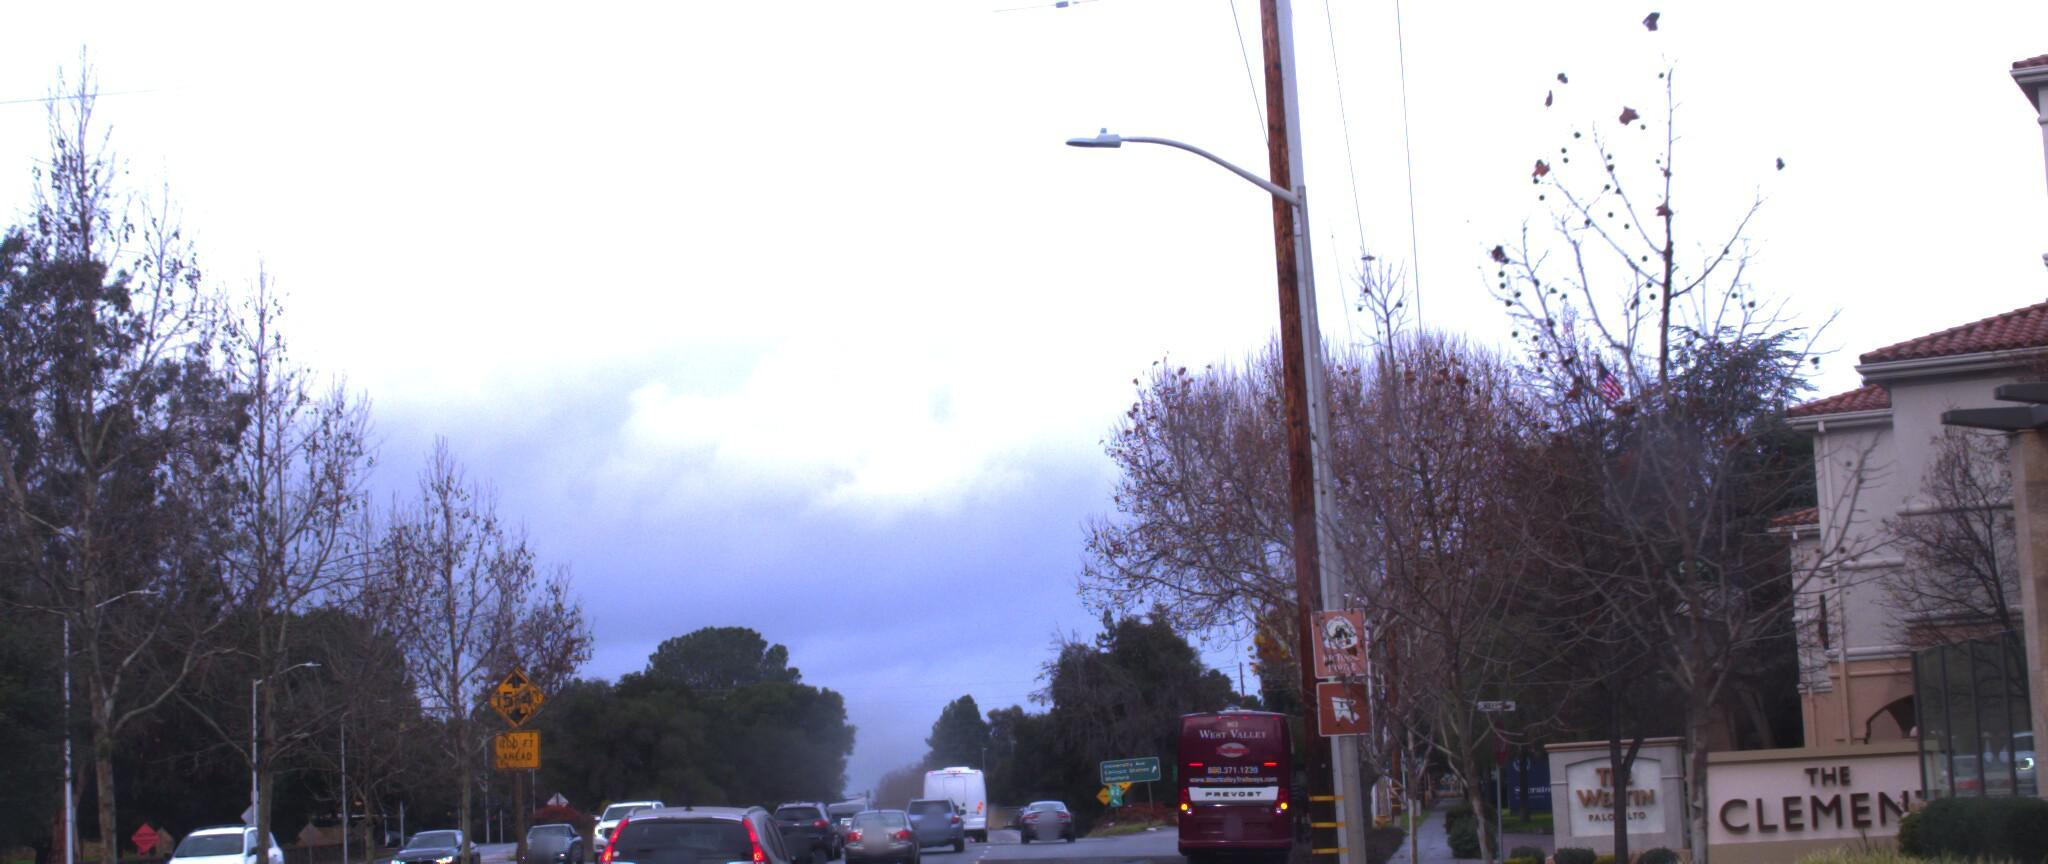bus: (1173, 696, 1337, 850)
car: (567, 780, 815, 864), (149, 809, 293, 864), (0, 837, 278, 864), (837, 794, 921, 864)
